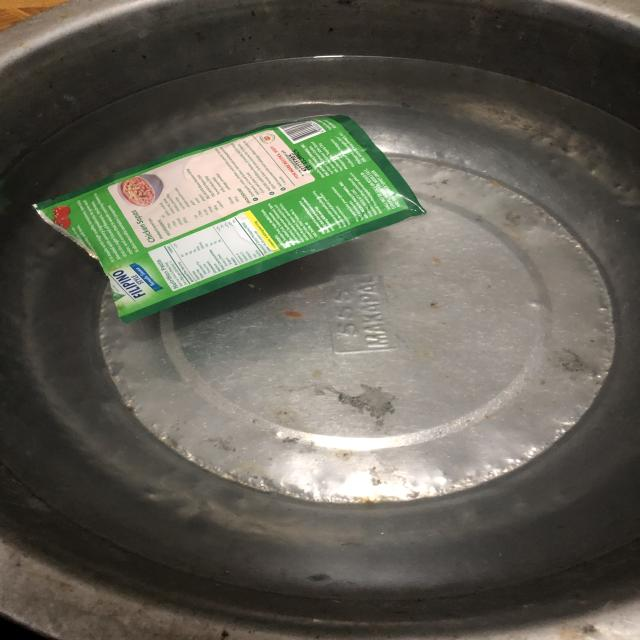Plastic Pouch: (0, 94, 449, 338)
